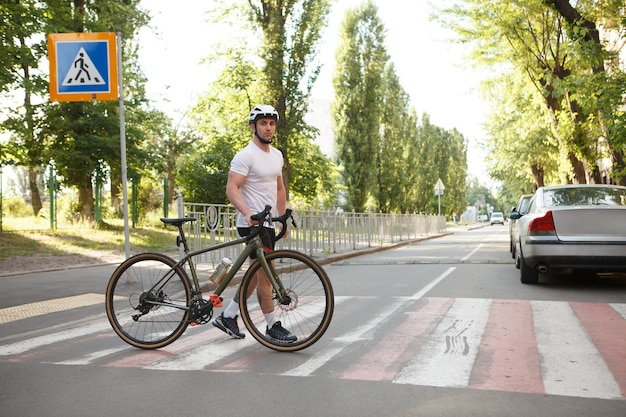helmet: (249, 105, 279, 143)
